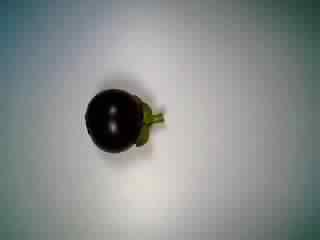mangosteen: (83, 84, 168, 156)
